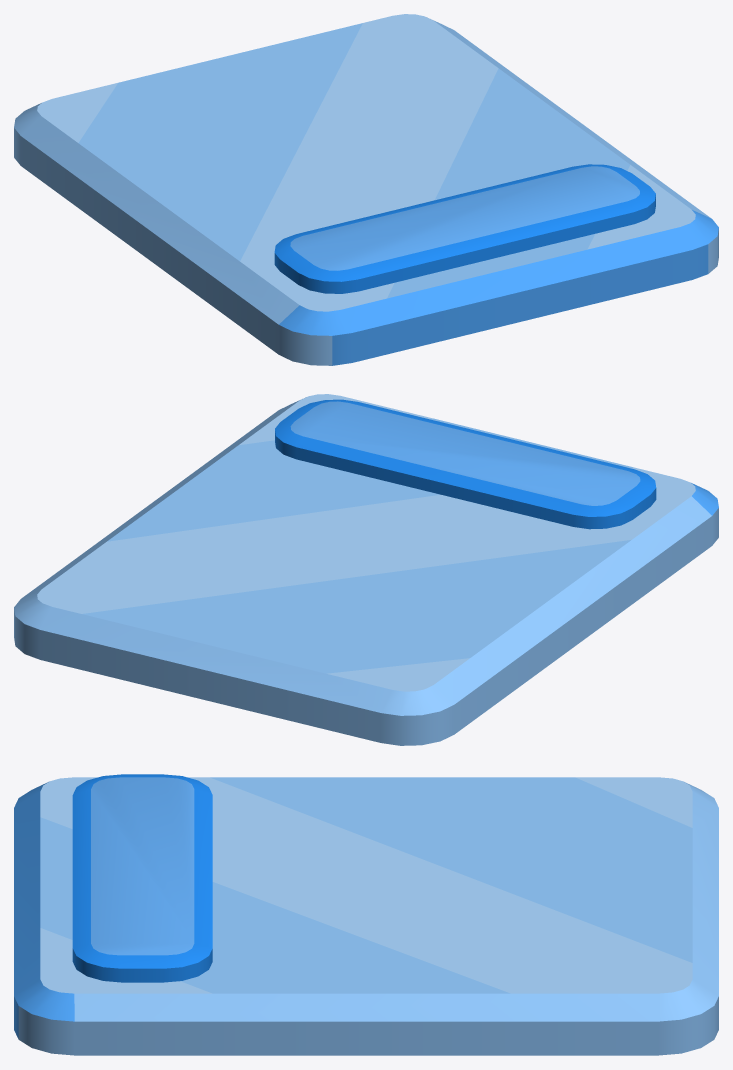
Rendered from MergePlatform.fbx.
3 renders of one model, top to bottom at view 1: azimuth 30°, elevation 25°; view 2: azimuth 150°, elevation 25°; view 3: azimuth 270°, elevation 25°, orthographic. The views are drawn at different scales.
Visible parts, largest first — view 1: Plane.016; view 2: Plane.016; view 3: Plane.016.
Part boxes in pixels (box(x1,y1,x2,y2)): Plane.016: box(14, 14, 718, 365); Plane.016: box(14, 394, 718, 745); Plane.016: box(14, 774, 718, 1055).
Bounding box in the file's own units: 763 × 103 × 950.
